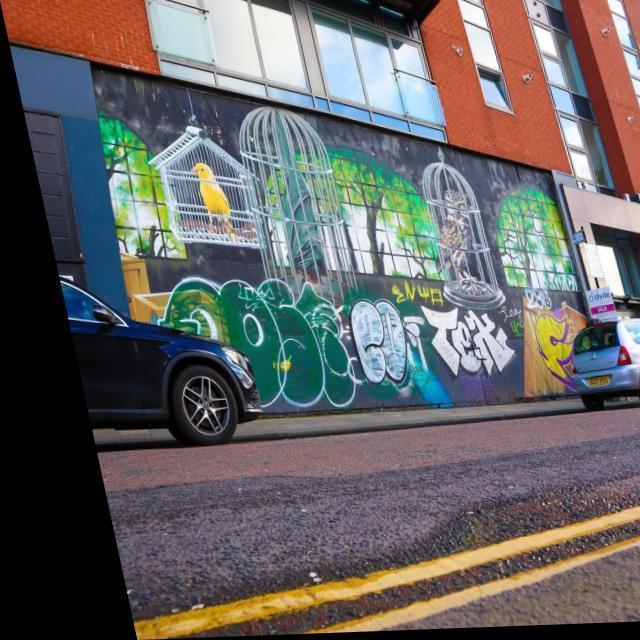nonspitting: (154, 277, 356, 407), (349, 299, 431, 387), (422, 306, 514, 378), (530, 313, 574, 383), (390, 280, 442, 304), (498, 306, 524, 336), (527, 288, 553, 310)
spitting: (96, 72, 580, 307)
